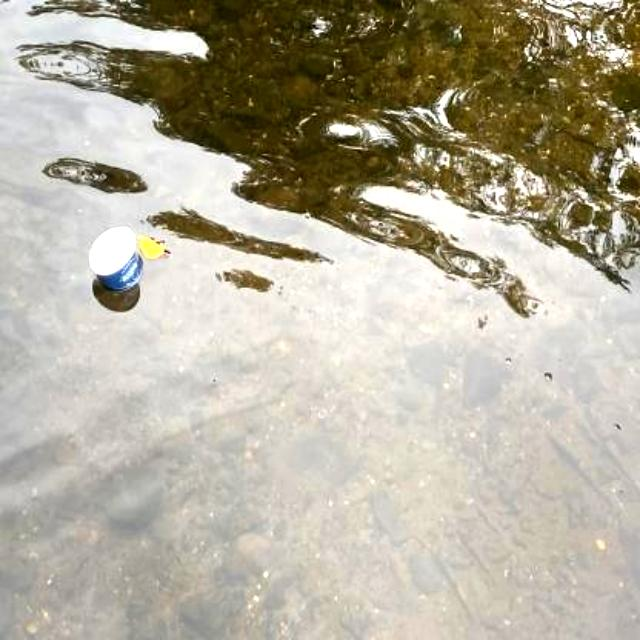Paper: (86, 224, 146, 296)
